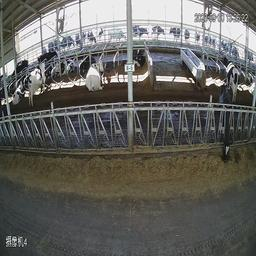cow: (218, 87, 236, 163), (219, 52, 243, 98), (25, 62, 48, 109), (85, 59, 110, 96), (131, 44, 148, 71), (12, 80, 27, 107), (76, 53, 90, 75)
